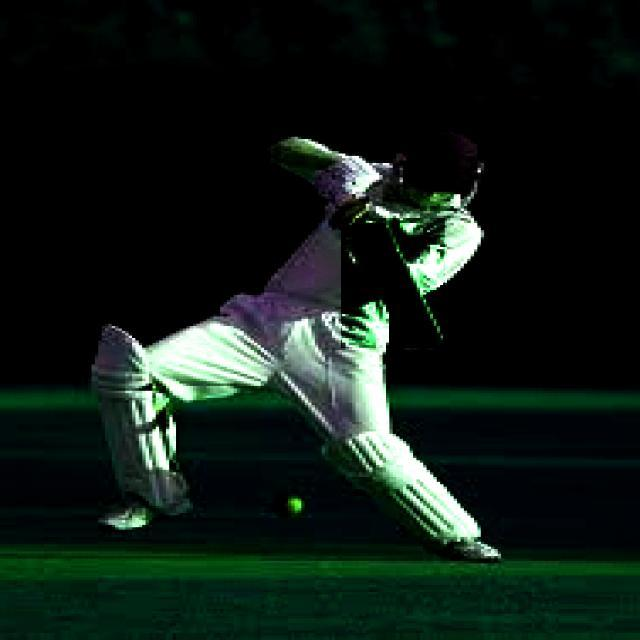bat: (340, 196, 443, 343)
toe: (402, 333, 445, 342)
